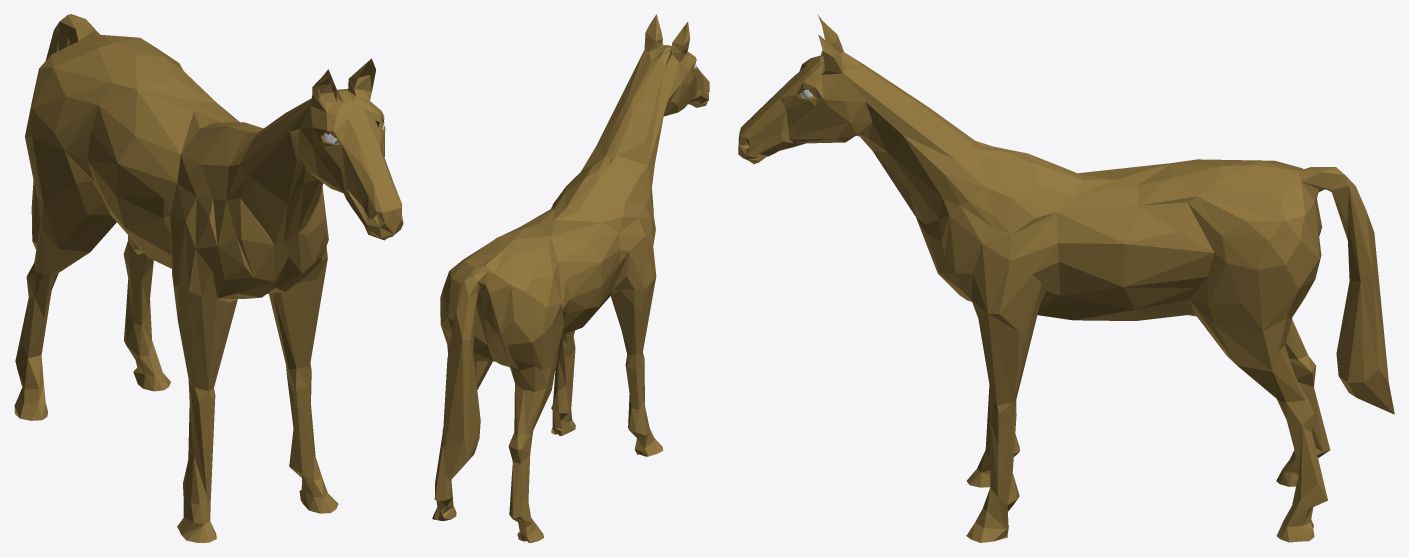
Rendered from Horse.fbx.
3 views of the same model, side by side, from view 1: azimuth 30°, elevation 25°; view 2: azimuth 150°, elevation 25°; view 3: azimuth 270°, elevation 25° (orthographic). The views are drawn at different scales.
Visible parts, largest first — view 1: horse; view 2: horse; view 3: horse.
Part boxes in pixels (box(x1,y1,x2,y2)): horse: box(14, 14, 403, 542); horse: box(432, 14, 709, 542); horse: box(738, 14, 1394, 542).
Size of the model in its own units: 509 by 1678 by 2057.
